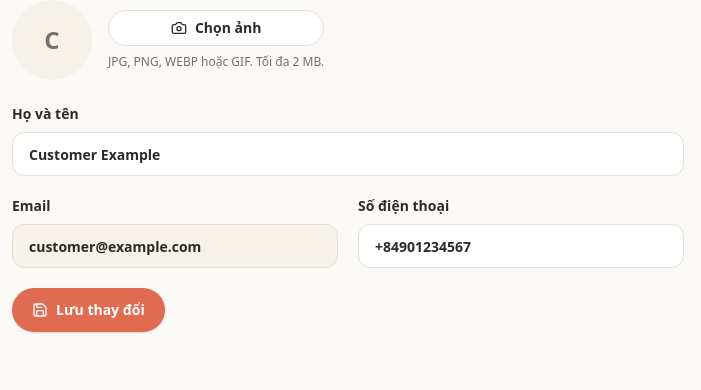
ProfileForm › rejects an invalid phone before issuing PATCH
Replace the text in the field labelled "Số điện thoại" with "not-a-phone". click: coordinates (521, 246)
box: [358,224,684,268]
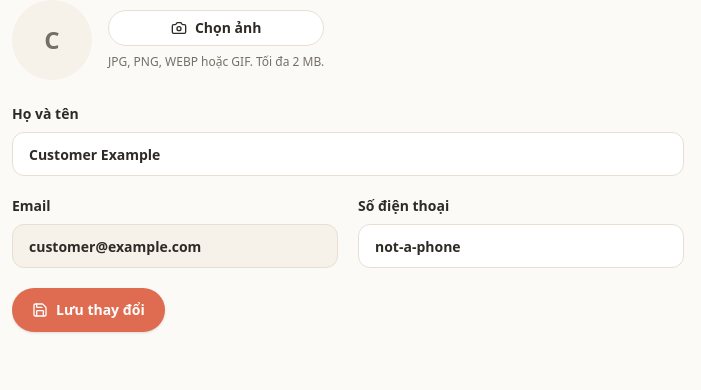
Click the button "Lưu thay đổi". click: coordinates (88, 310)
box: [12,288,165,332]
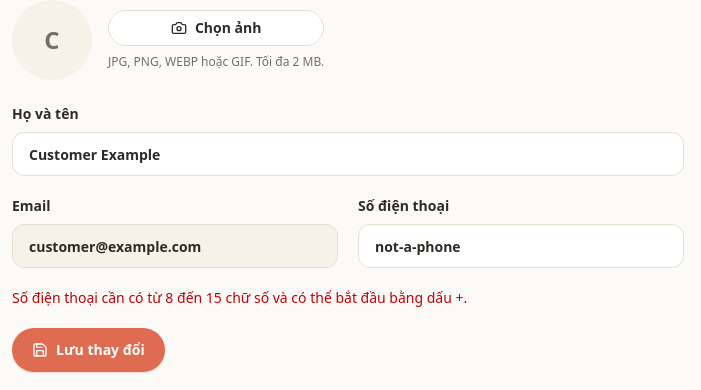
Expected: the message shows "Số điện thoại cần có từ 8 đến 15 chữ số", [12,288,467,307]
